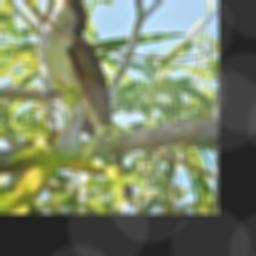Cuckoo: (38, 0, 136, 207)
